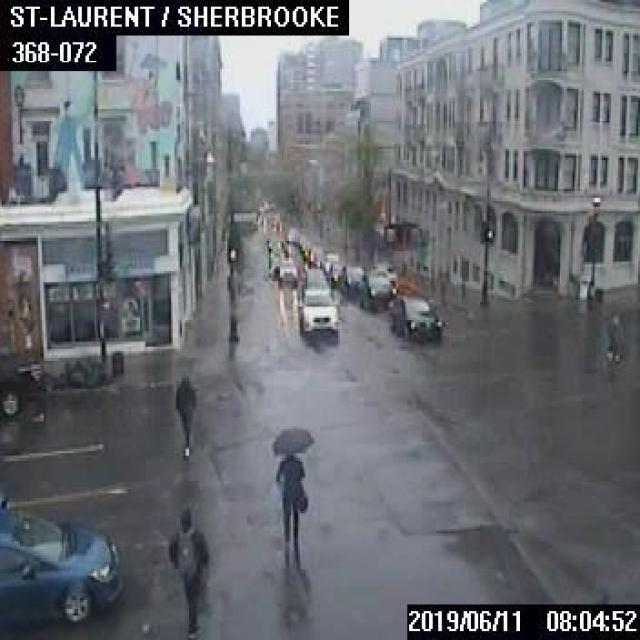pedestrian: (271, 424, 311, 556), (165, 506, 206, 634), (173, 376, 193, 451), (606, 311, 622, 363)
vehicle: (0, 491, 120, 620), (0, 347, 42, 413), (386, 292, 441, 338), (294, 284, 339, 332), (355, 270, 395, 310), (300, 274, 331, 302), (338, 264, 364, 296), (276, 256, 296, 284), (301, 266, 326, 286), (328, 262, 348, 283), (319, 250, 337, 270), (268, 256, 282, 276)
